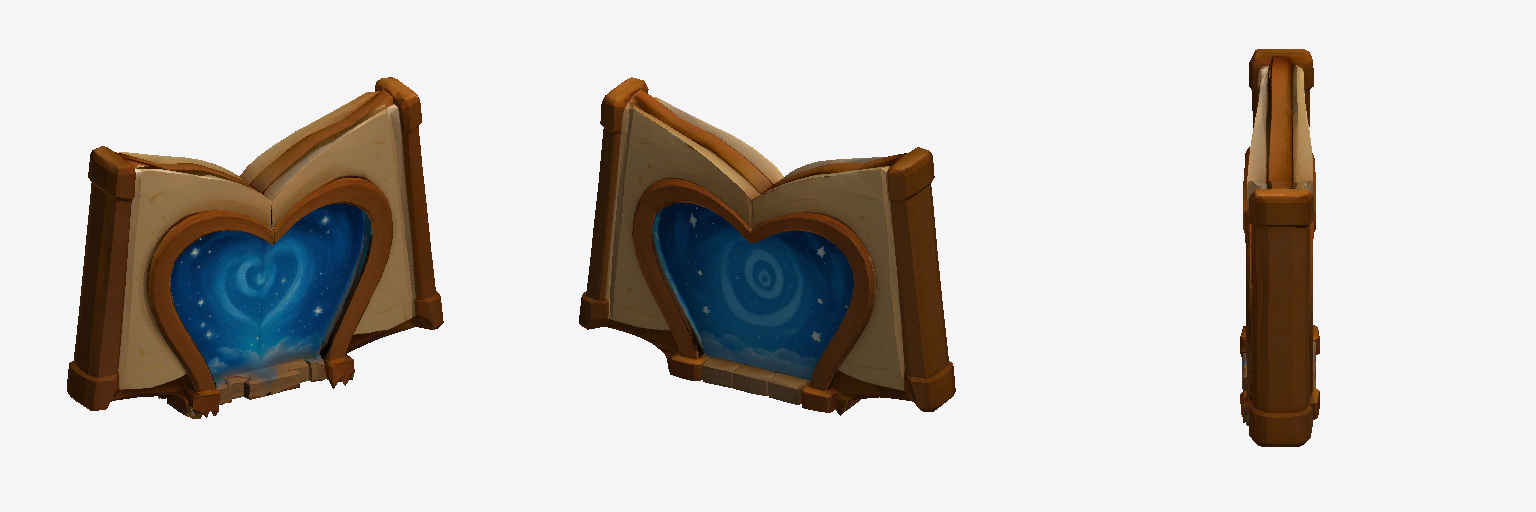
The picture shows the model from 3 angles: view 1: azimuth 30°, elevation 25°; view 2: azimuth 150°, elevation 25°; view 3: azimuth 270°, elevation 25°; orthographic projection.
Parts seen in each view (by area): view 1: Open_Book_Archway_Por_[number redacted]_texture; view 2: Open_Book_Archway_Por_[number redacted]_texture; view 3: Open_Book_Archway_Por_[number redacted]_texture.
Part boxes in pixels (left/top/right/bottom): Open_Book_Archway_Por_[number redacted]_texture: left=67, top=77, right=443, bottom=418; Open_Book_Archway_Por_[number redacted]_texture: left=579, top=77, right=955, bottom=415; Open_Book_Archway_Por_[number redacted]_texture: left=1240, top=49, right=1319, bottom=446.
Bounding box in the file's own units: 2 × 1.43 × 0.3861.
1 materials, 1 textured.